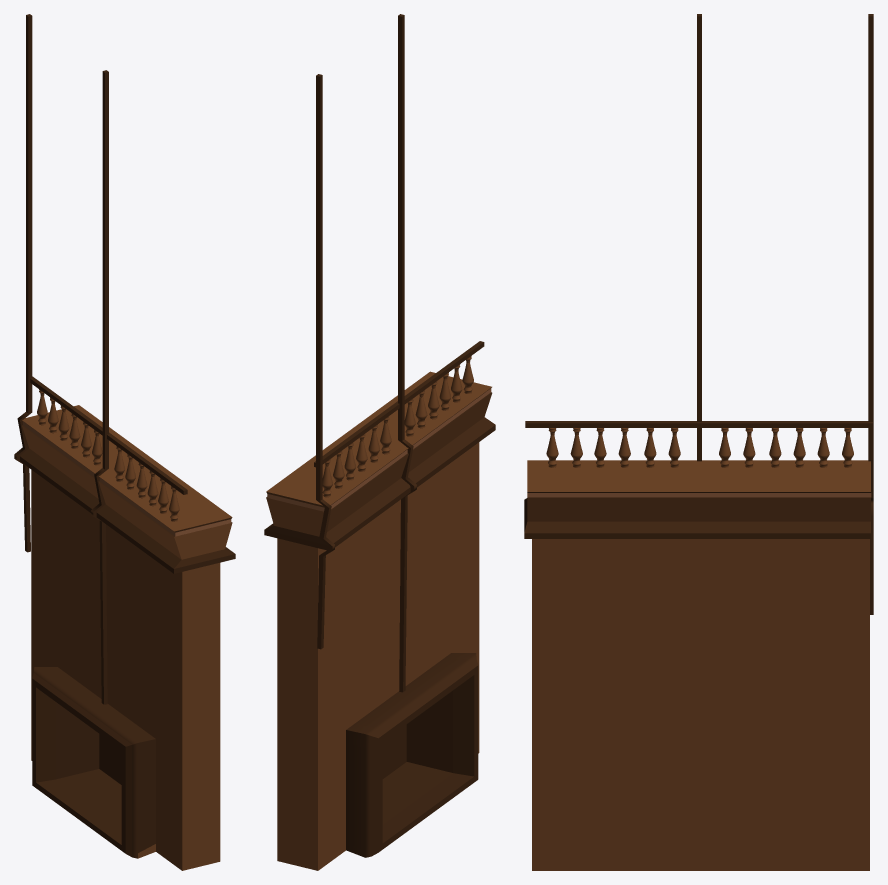
File: fireplace.fbx
3 renders of one model, left to right at view 1: azimuth 30°, elevation 25°; view 2: azimuth 150°, elevation 25°; view 3: azimuth 270°, elevation 25°, orthographic. The views are drawn at different scales.
Parts seen in each view (by area): view 1: pCube14, main_closet1, fence_and_wire_detail1; view 2: pCube14, main_closet1, fence_and_wire_detail1; view 3: pCube14, main_closet1, fence_and_wire_detail1.
Boxes of the visible parts, x1,y1,x2,y2 form: pCube14: (31, 470, 220, 870); main_closet1: (20, 405, 235, 573); fence_and_wire_detail1: (14, 14, 187, 704); pCube14: (277, 442, 479, 870); main_closet1: (264, 371, 495, 550); fence_and_wire_detail1: (314, 14, 484, 692); pCube14: (532, 539, 869, 870); main_closet1: (524, 460, 871, 538); fence_and_wire_detail1: (525, 14, 873, 614).
Size of the model in its own units: 3.46 by 31.74 by 12.05.
